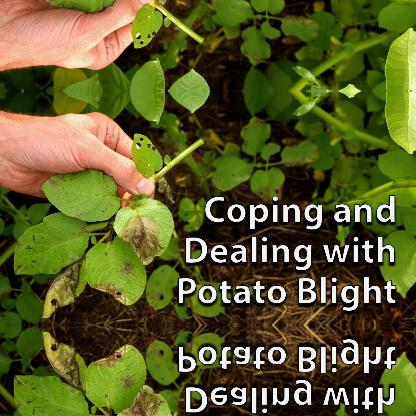Early-Blight: (12, 208, 104, 274), (86, 233, 152, 309), (86, 341, 152, 416), (36, 170, 122, 222), (115, 194, 175, 262), (40, 251, 96, 319), (40, 331, 96, 399), (11, 376, 104, 416), (126, 124, 178, 188), (125, 0, 178, 57), (235, 108, 281, 160), (235, 22, 281, 74), (240, 160, 291, 200), (284, 128, 328, 172), (284, 10, 328, 54), (115, 388, 175, 416), (240, 0, 291, 22), (36, 0, 121, 12)
